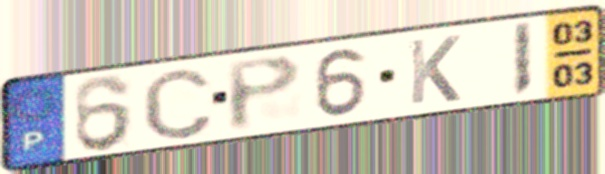6: (71, 72, 136, 155), (311, 46, 370, 119)
C: (139, 64, 217, 142)
I: (510, 19, 535, 100)
K: (406, 33, 463, 108)
P: (223, 52, 306, 134)
